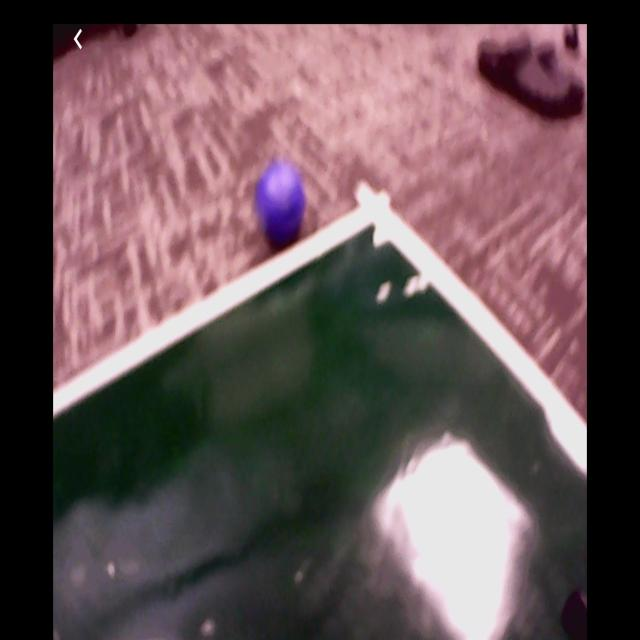ball: (260, 165, 305, 239)
